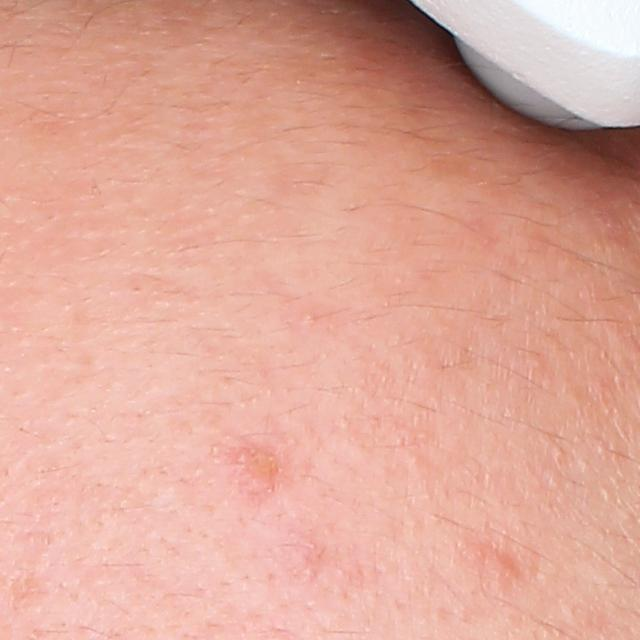papule: (226, 436, 283, 508)
